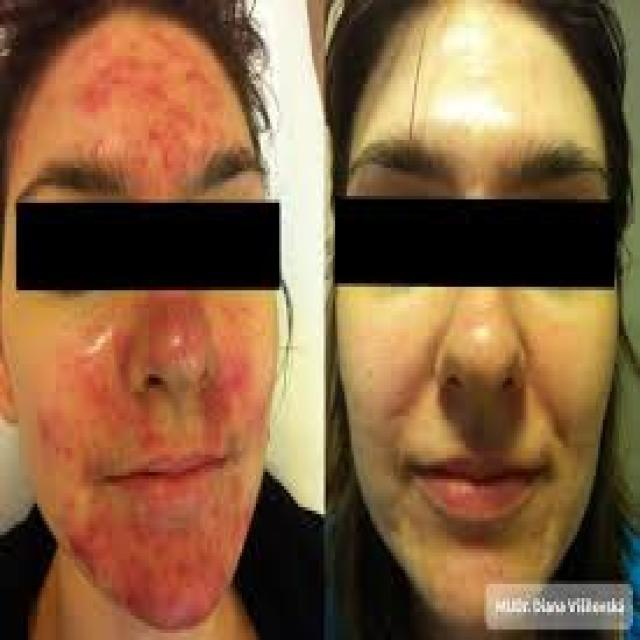Rosacea: (64, 485, 242, 620), (61, 26, 223, 172), (41, 330, 126, 468), (197, 304, 255, 449), (142, 298, 207, 360)
